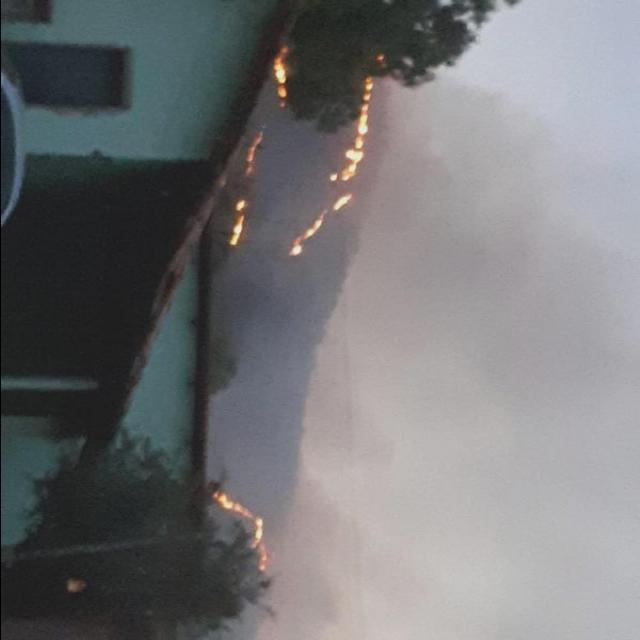Fire: (282, 76, 389, 262), (218, 126, 274, 248), (202, 486, 274, 576), (259, 40, 305, 122)
